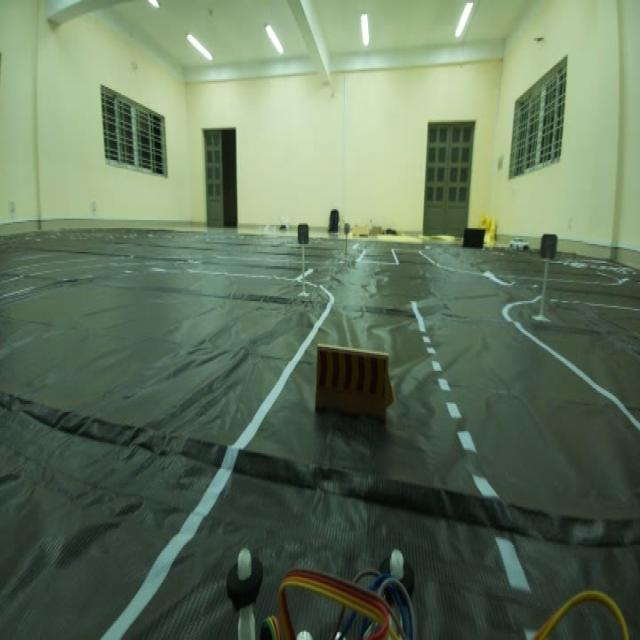roadblock: (310, 337, 400, 430)
